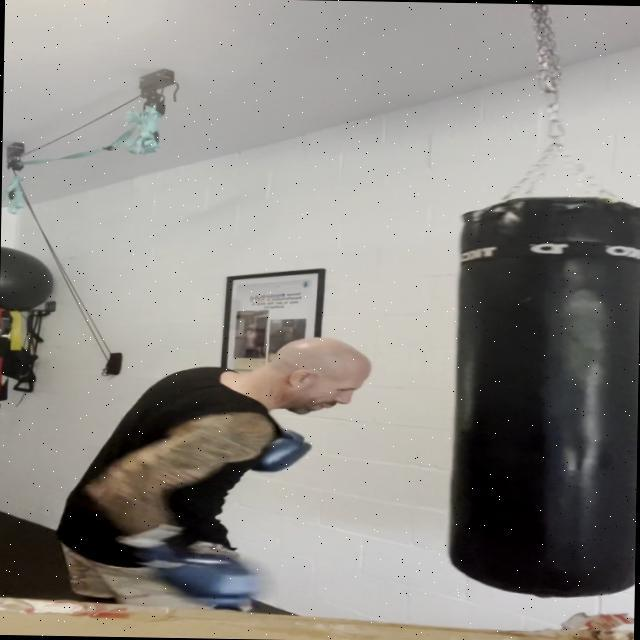bag: (424, 188, 640, 597)
uppercut: (68, 304, 390, 602)
